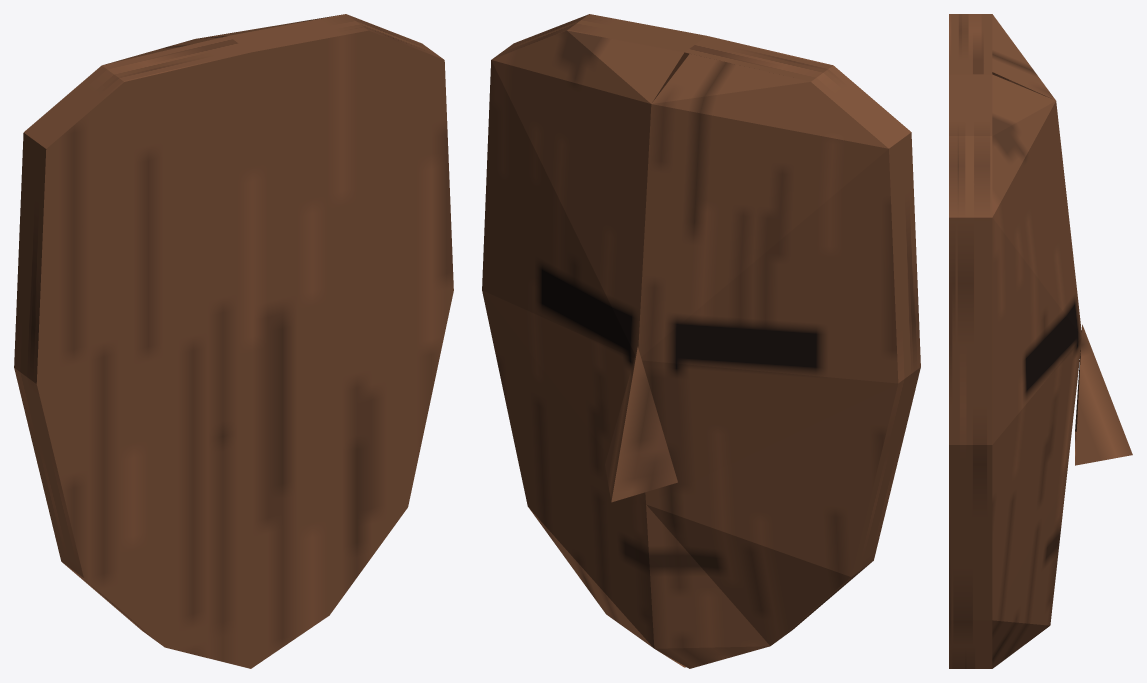
File: SM_MK15_WoodMask.fbx
3 views of the same model, side by side, from view 1: azimuth 30°, elevation 25°; view 2: azimuth 150°, elevation 25°; view 3: azimuth 270°, elevation 25° (orthographic). The views are drawn at different scales.
Visible parts, largest first — view 1: MK15_Mask; view 2: MK15_Mask; view 3: MK15_Mask.
Part boxes in pixels (x1=…): MK15_Mask: x1=14, y1=14, x2=453, y2=668; MK15_Mask: x1=482, y1=14, x2=920, y2=668; MK15_Mask: x1=949, y1=14, x2=1132, y2=668.
Bounding box in the file's own units: 0.3187 × 0.451 × 0.127.
